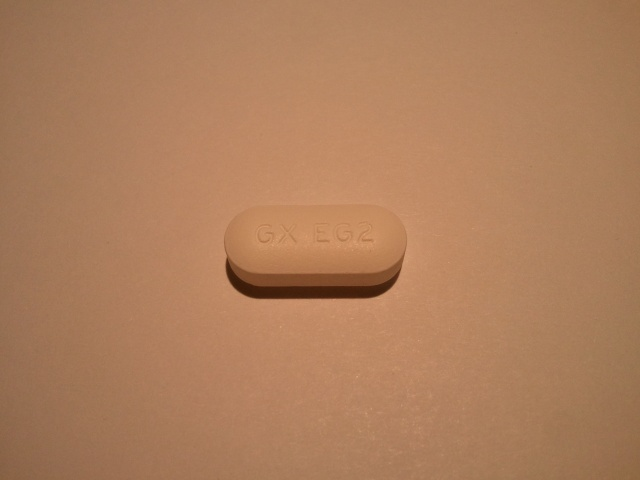2: (356, 218, 377, 245)
E: (310, 220, 334, 249)
G: (252, 221, 275, 250), (333, 220, 355, 248)
X: (274, 221, 300, 249)
